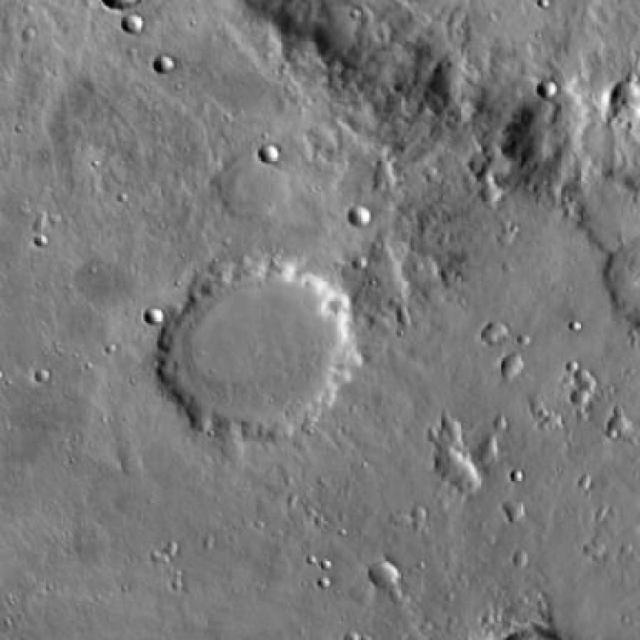crater: (154, 262, 358, 444), (442, 451, 487, 491), (498, 358, 525, 382), (435, 424, 462, 448), (483, 326, 505, 346), (346, 206, 368, 226), (538, 79, 559, 98), (153, 54, 175, 72), (258, 146, 278, 165), (480, 442, 500, 460), (505, 503, 524, 520), (122, 16, 141, 33), (144, 309, 162, 326), (571, 388, 589, 404), (610, 415, 625, 434), (576, 371, 595, 386)
